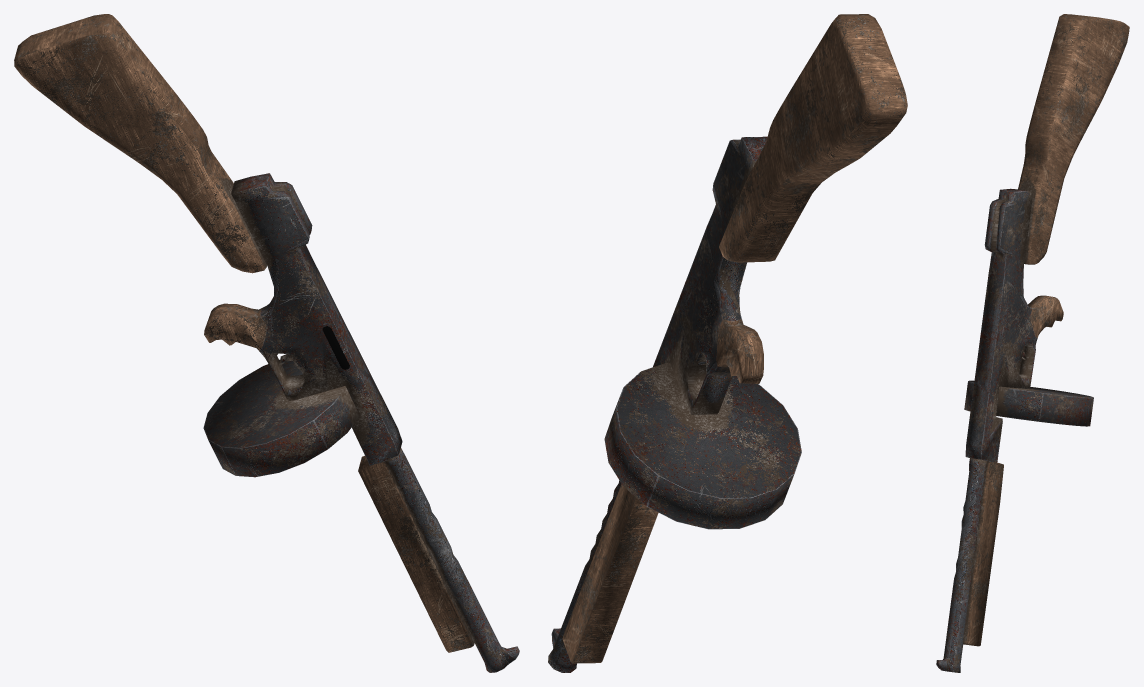
File: Anim_disparar_ametralladora_objetos.0036.obj
3 renders of one model, left to right at view 1: azimuth 30°, elevation 25°; view 2: azimuth 150°, elevation 25°; view 3: azimuth 270°, elevation 25°, orthographic. The views are drawn at different scales.
Visible parts, largest first — view 1: Ametralladora1; view 2: Ametralladora1; view 3: Ametralladora1.
Boxes of the visible parts, x1,y1,x2,y2 form: Ametralladora1: (14, 14, 519, 672); Ametralladora1: (548, 14, 907, 672); Ametralladora1: (936, 14, 1129, 672).
Bounding box in the file's own units: 3.31 × 5.35 × 1.75.
